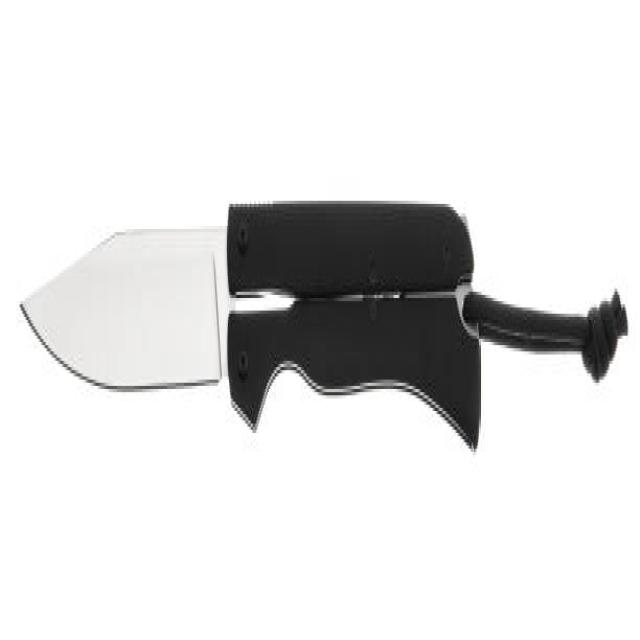knife: (18, 199, 490, 462)
